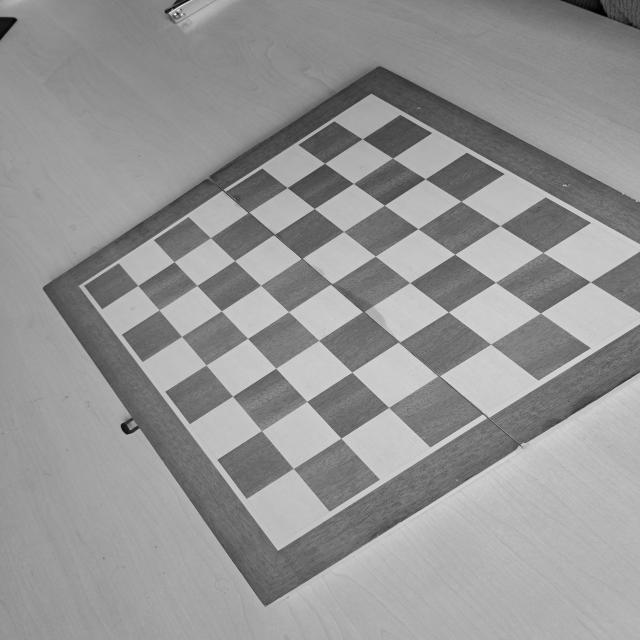chess-table-corners: (264, 532, 296, 554), (71, 276, 100, 296), (357, 90, 385, 108)
